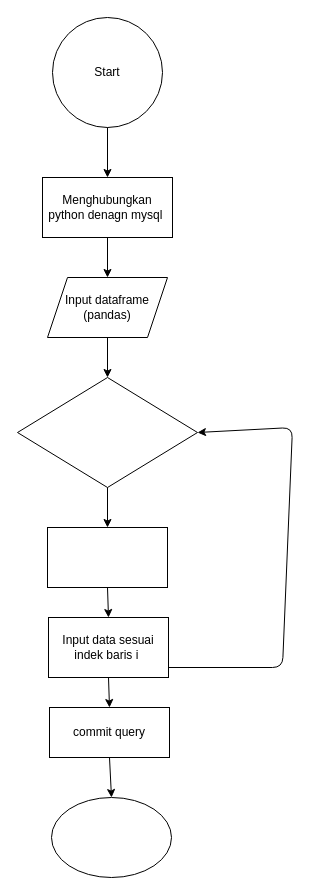
Image size: 318x895. Some labels were removed from this diagram. Here are the shapes that lost their labels. From the top down, the box of each, then its label:
(16, 376, 198, 488): for i in range (banyak data)
(46, 526, 168, 588): tulis query sesuai pengimputan data dimysql
(50, 796, 172, 878): finish
